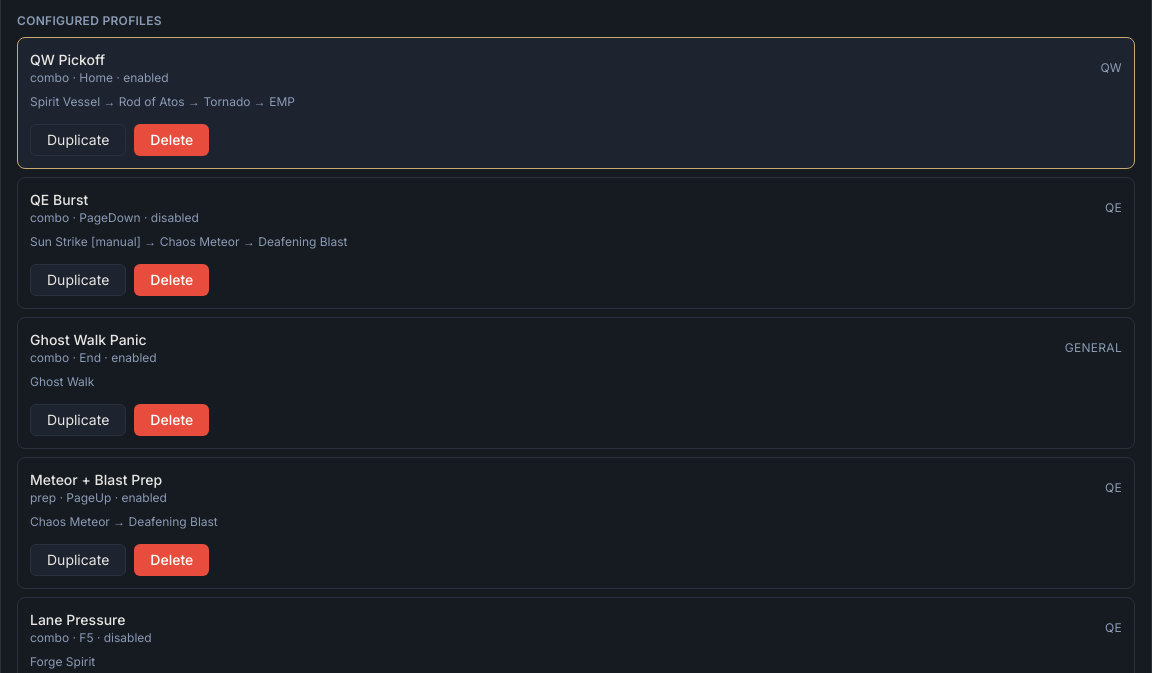
InvokerConfig › marks an enabled combo profile as the active combo when clicked
(page scrolled)
Step 1. Click the button "Ghost Walk Panic combo · End · enabled general Ghost Walk" → (88, 340), box [30, 330, 1122, 390]
(page scrolled)
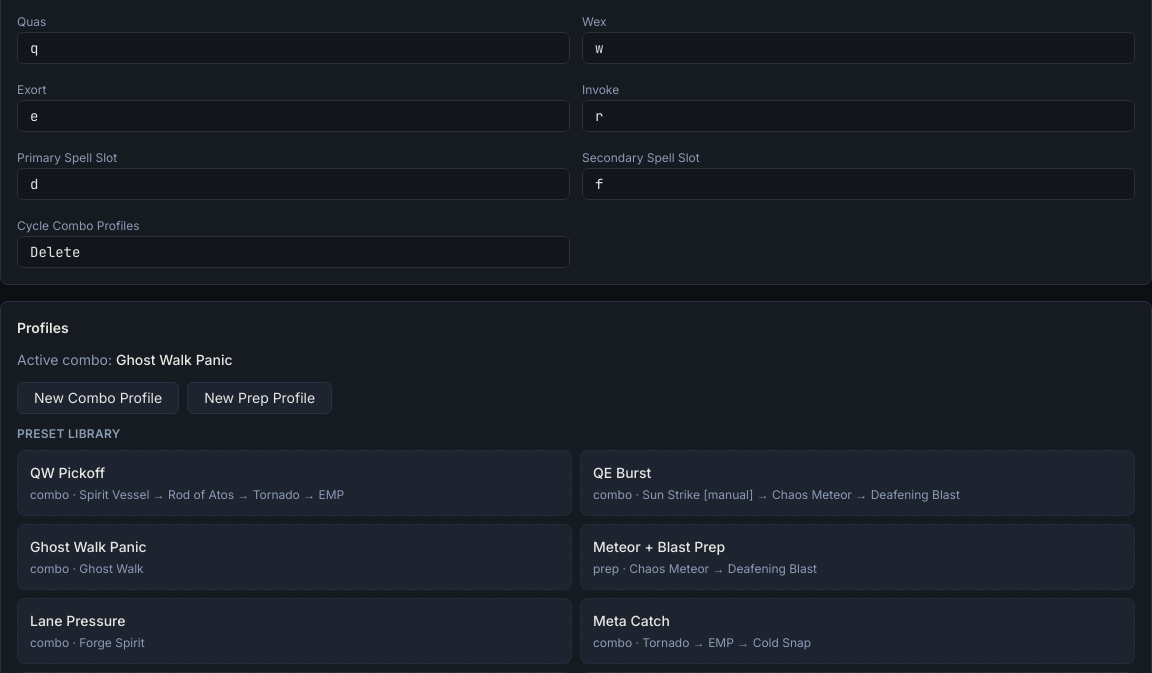
Result: the text "Active combo: Ghost Walk Panic" is shown at [17, 351, 232, 368]
